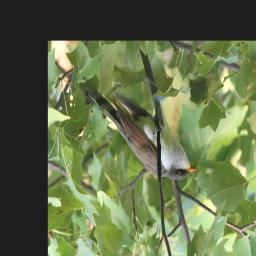Cuckoo: (80, 89, 196, 184)
